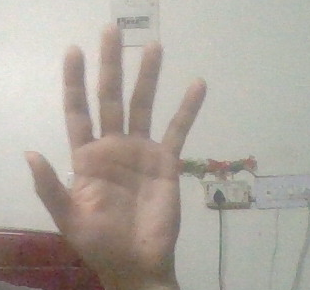move: (62, 28, 225, 290)
